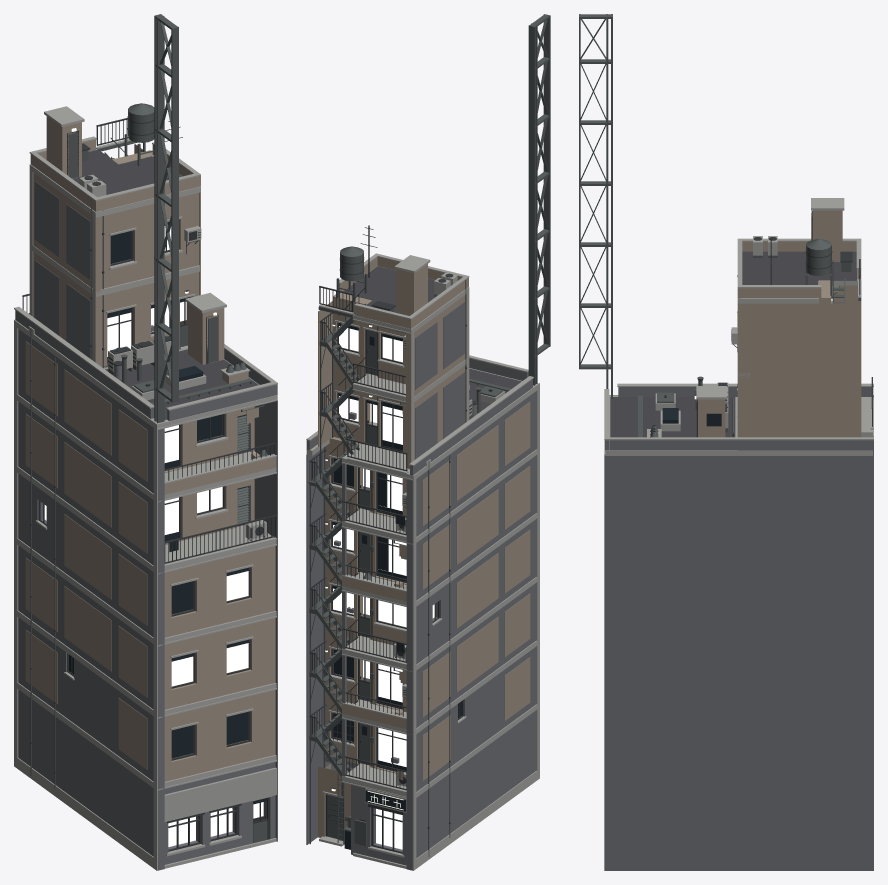
Rendered from midrise216b.glb.
3 renders of one model, left to right at view 1: azimuth 30°, elevation 25°; view 2: azimuth 150°, elevation 25°; view 3: azimuth 270°, elevation 25°, orthographic. The views are drawn at different scales.
Parts seen in each view (by area): view 1: m216-wall2, m216-wall, m216-trim, m216-outrigger, m216-steel, m216-frame, m216-dark, m216-roof, m216-room1, m216-room0, m216-room2, m216-shop; view 2: m216-wall, m216-wall2, m216-trim, m216-steel, m216-frame, m216-outrigger, m216-room1, m216-dark, m216-roof, m216-room2, m216-shop; view 3: m216-wall, m216-wall2, m216-trim, m216-roof, m216-outrigger, m216-steel, m216-frame.
Boxes of the visible parts, x1,y1,x2,y2 form: m216-wall2: (25,116,276,781); m216-wall: (15,181,277,870); m216-trim: (14,106,277,870); m216-outrigger: (154,14,178,423); m216-steel: (30,103,267,843); m216-frame: (22,116,276,851); m216-dark: (69,222,267,804); m216-roof: (73,149,258,419); m216-room1: (44,226,263,818); m216-room0: (107,312,178,462); m216-room2: (151,304,248,600); m216-shop: (168,808,232,846); m216-wall: (306,302,536,870); m216-wall2: (318,257,530,837); m216-trim: (306,253,539,870); m216-steel: (308,246,511,856); m216-frame: (309,225,492,853); m216-outrigger: (528,14,550,385); m216-room1: (333,326,434,702); m216-dark: (332,323,461,849); m216-roof: (343,266,521,413); m216-room2: (333,588,406,766); m216-shop: (376,809,402,848); m216-wall: (604,387,873,870); m216-wall2: (698,210,861,437); m216-trim: (604,198,873,455); m216-roof: (610,251,856,437); m216-outrigger: (579,14,612,398); m216-steel: (638,213,861,437); m216-frame: (664,211,872,437).
Size of the model in its own units: 5.3 by 35.48 by 11.82.
